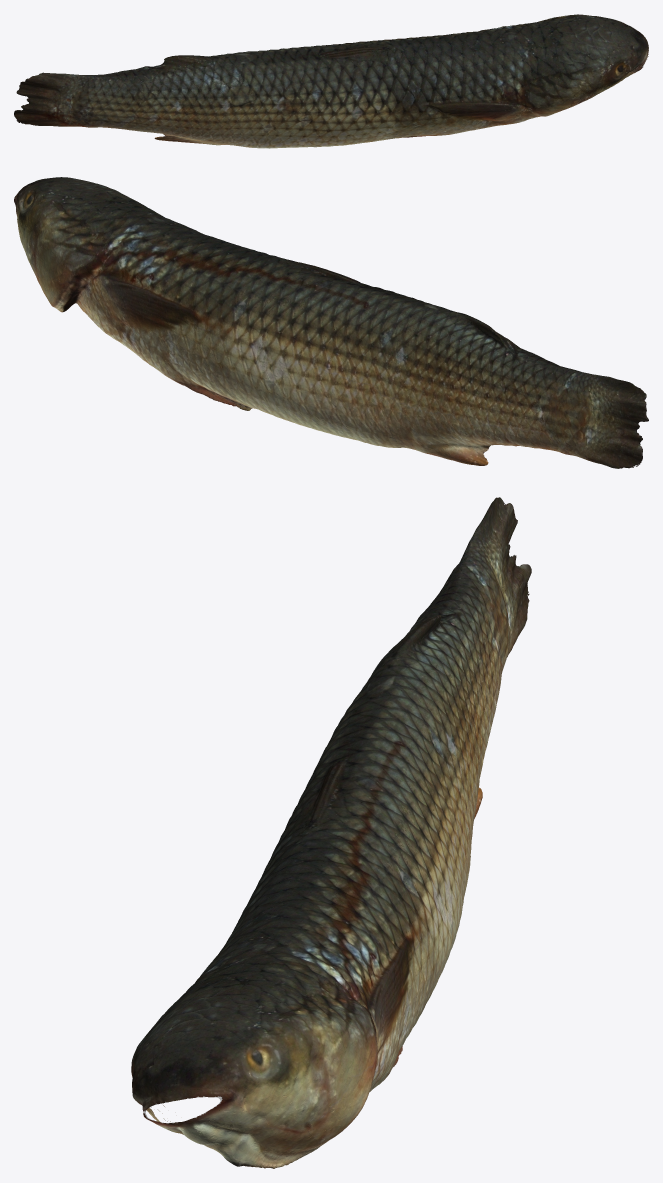
The model's file is artec-scanned-fish.glb.
3 renders of one model, top to bottom at view 1: azimuth 30°, elevation 25°; view 2: azimuth 150°, elevation 25°; view 3: azimuth 270°, elevation 25°, orthographic. The views are drawn at different scales.
Visible parts, largest first — view 1: Node; view 2: Node; view 3: Node.
Boxes of the visible parts, x1,y1,x2,y2 form: Node: [14, 14, 648, 148]; Node: [14, 177, 648, 468]; Node: [131, 497, 531, 1168].
Size of the model in its own units: 510 by 104 by 161.
2 materials, 1 textured.
